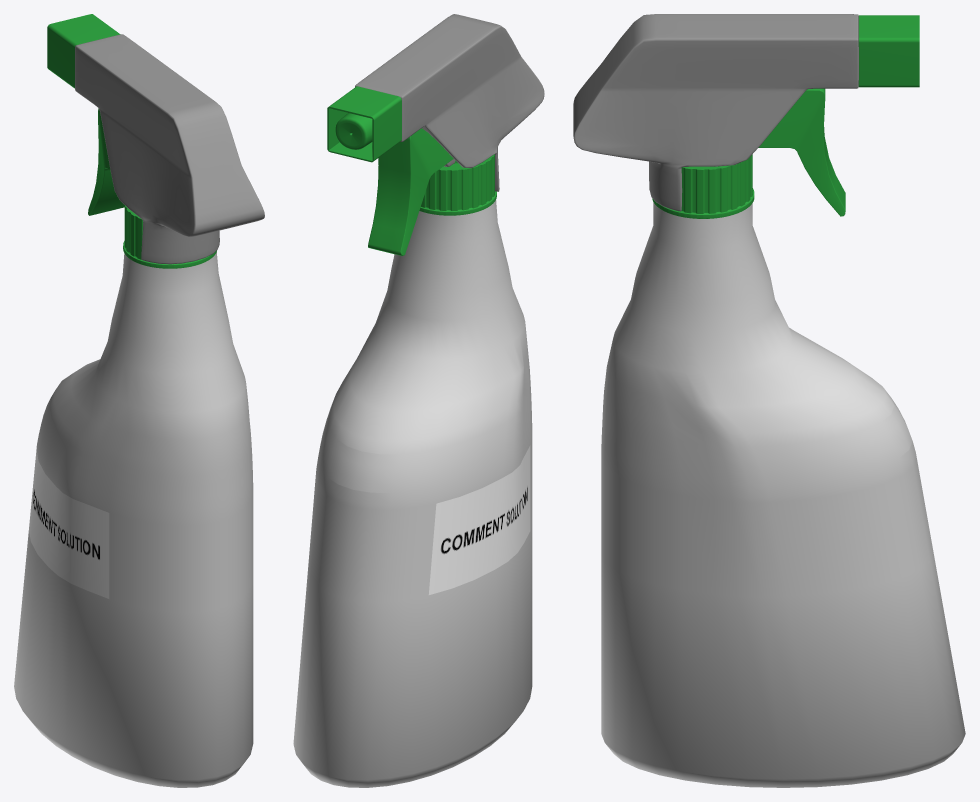
File: spray_green.fbx
3 views of the same model, side by side, from view 1: azimuth 30°, elevation 25°; view 2: azimuth 150°, elevation 25°; view 3: azimuth 270°, elevation 25° (orthographic). The views are drawn at different scales.
Parts seen in each view (by area): view 1: Cylinder.008, Circle.003, Circle.005, Circle.004, Circle.002; view 2: Cylinder.008, Circle.003, Circle.004, Circle.005, Circle.002; view 3: Cylinder.008, Circle.003, Circle.005, Circle.004, Circle.002.
Boxes of the visible parts, bbox=[...] form: Cylinder.008: bbox=[14, 252, 253, 787]; Circle.003: bbox=[75, 34, 264, 264]; Circle.005: bbox=[47, 14, 120, 88]; Circle.004: bbox=[88, 108, 124, 215]; Circle.002: bbox=[123, 205, 216, 268]; Cylinder.008: bbox=[293, 200, 532, 787]; Circle.003: bbox=[355, 14, 544, 191]; Circle.004: bbox=[368, 128, 453, 255]; Circle.005: bbox=[327, 86, 401, 162]; Circle.002: bbox=[419, 154, 496, 215]; Cylinder.008: bbox=[601, 202, 965, 787]; Circle.003: bbox=[573, 14, 858, 211]; Circle.005: bbox=[858, 15, 919, 87]; Circle.004: bbox=[758, 88, 845, 216]; Circle.002: bbox=[652, 154, 754, 218].
Bounding box in the file's own units: 6.46 × 24.43 × 11.84.
